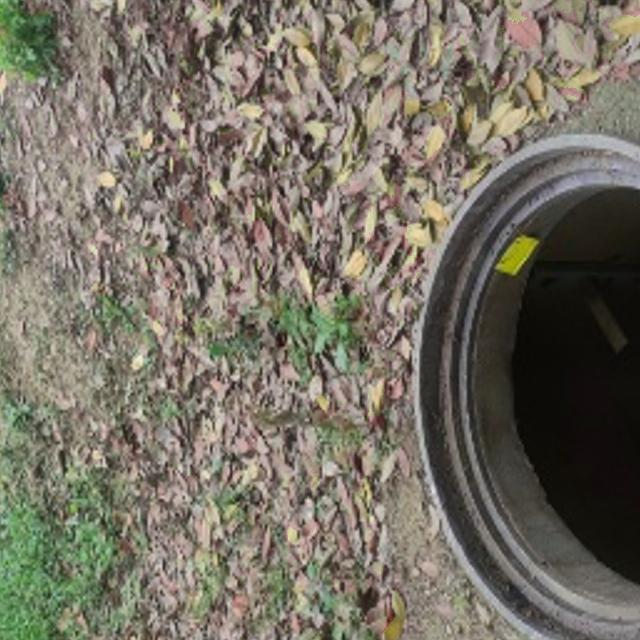lose: (411, 128, 640, 640)
